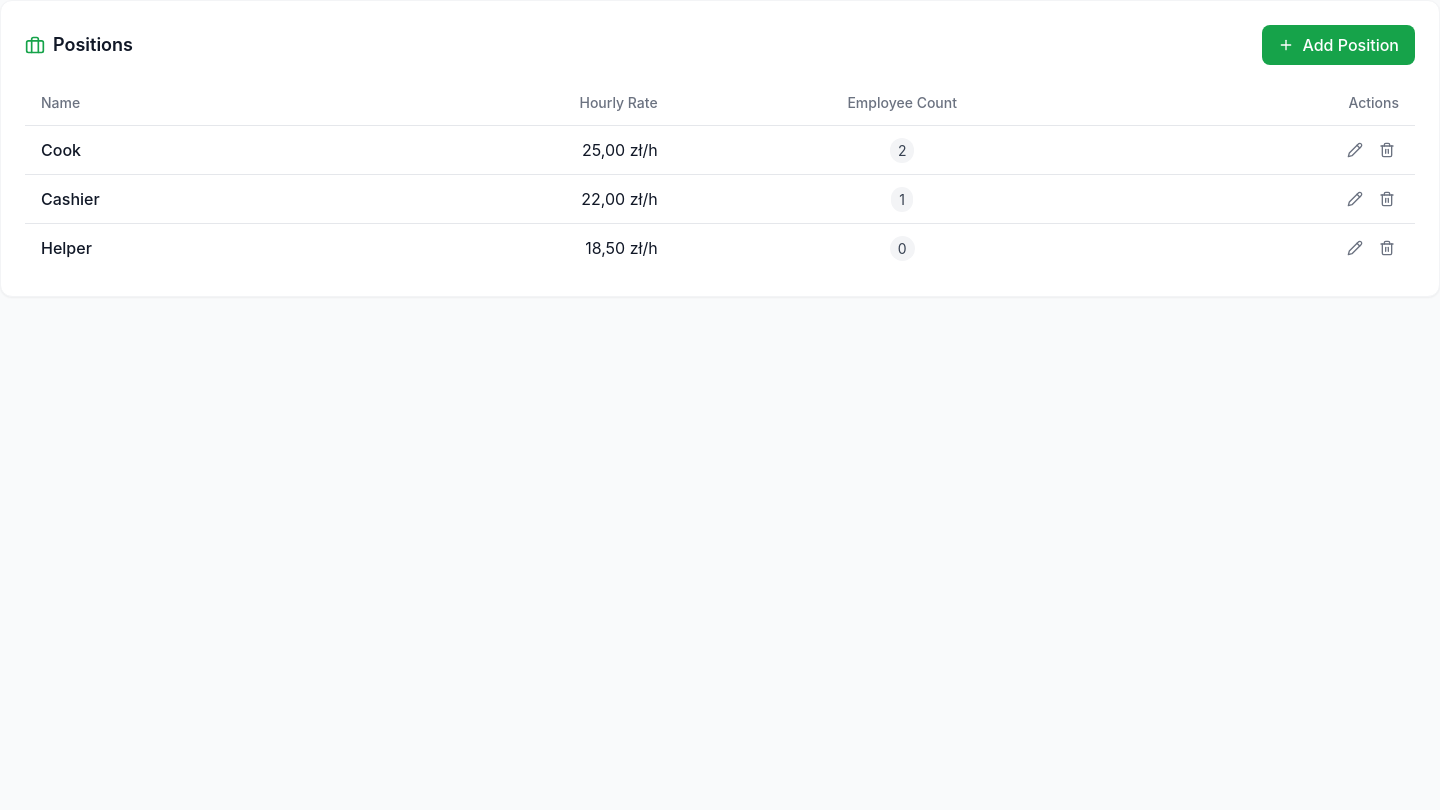
Test: PositionsSection › Edit Position › opens edit modal with pre-filled data when clicking edit button
Check: the text "Cook" is shown, box [25,126,318,174]
Find and click the edit button for Cook (first position)
Click the button titled "Edit" in the row of "Cook". click: [1355, 150]
box: [1343,138,1367,162]
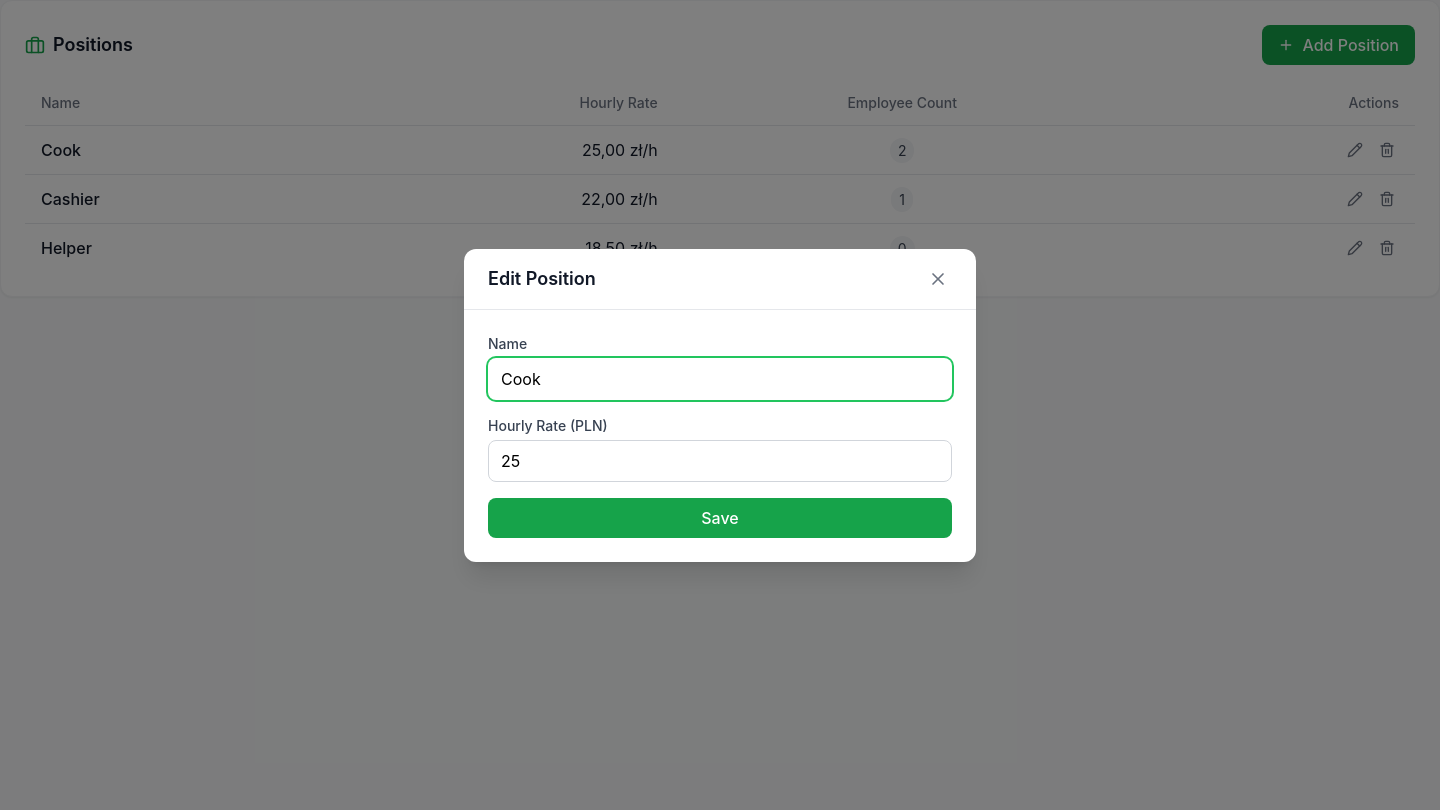
Check: the dialog is shown
Check: the heading "Edit Position" is shown, box [488,264,596,292]
Check: the field showing "Cook" is shown, box [488,358,952,400]
